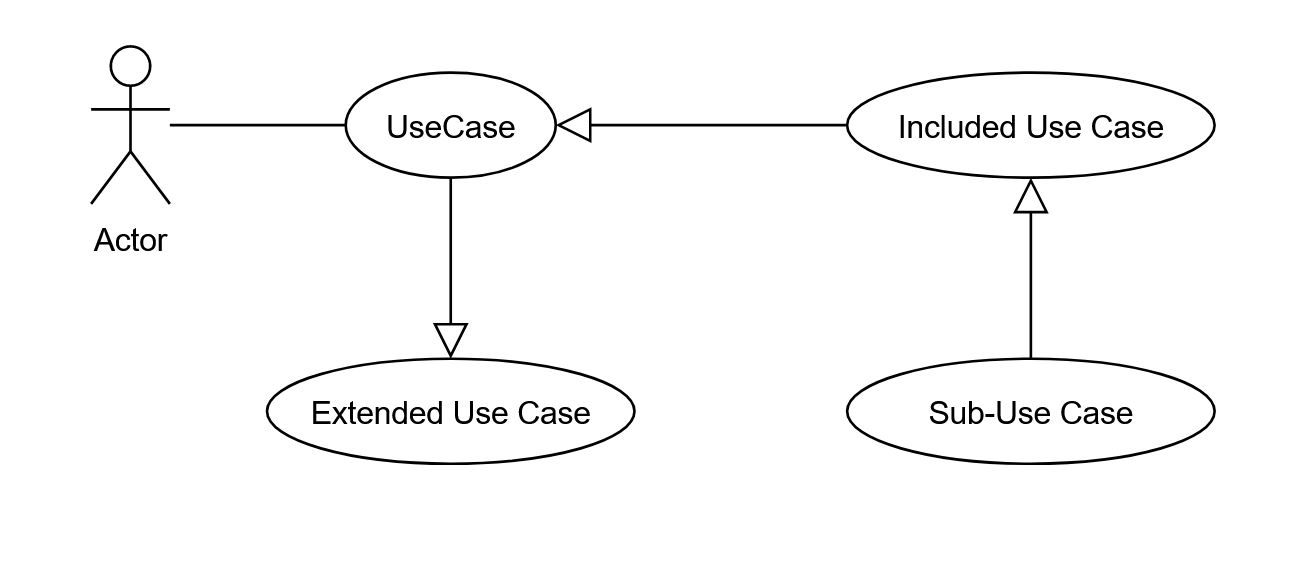actor: (84, 43, 172, 206)
association: (167, 117, 345, 138)
generalization: (556, 101, 847, 144), (1010, 178, 1050, 357), (431, 178, 469, 356)
text: (307, 394, 592, 434), (887, 109, 1170, 149), (924, 389, 1140, 432), (379, 106, 521, 146), (82, 216, 176, 263)
use_case: (844, 71, 1216, 181), (847, 357, 1219, 467), (264, 358, 638, 466), (344, 70, 556, 178)
